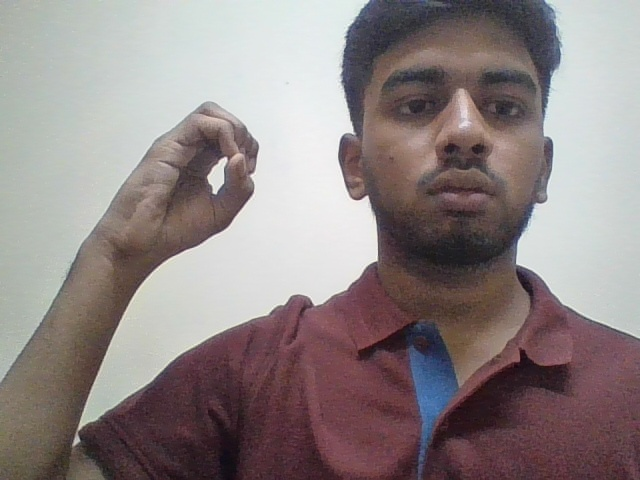O: (78, 89, 279, 273)
